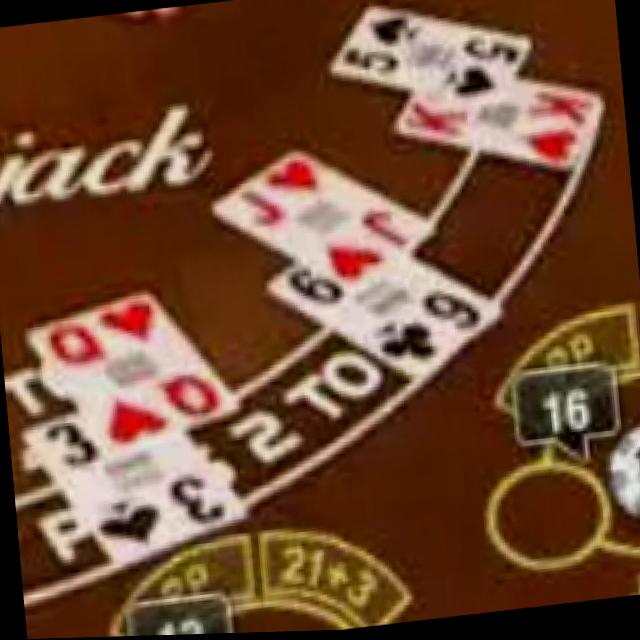Card-3: (21, 411, 247, 564)
Card-5: (329, 2, 530, 107)
Card-6: (268, 256, 502, 381)
Card-J: (210, 149, 433, 293)
Card-K: (398, 83, 604, 172)
Card-Q: (26, 291, 238, 462)
